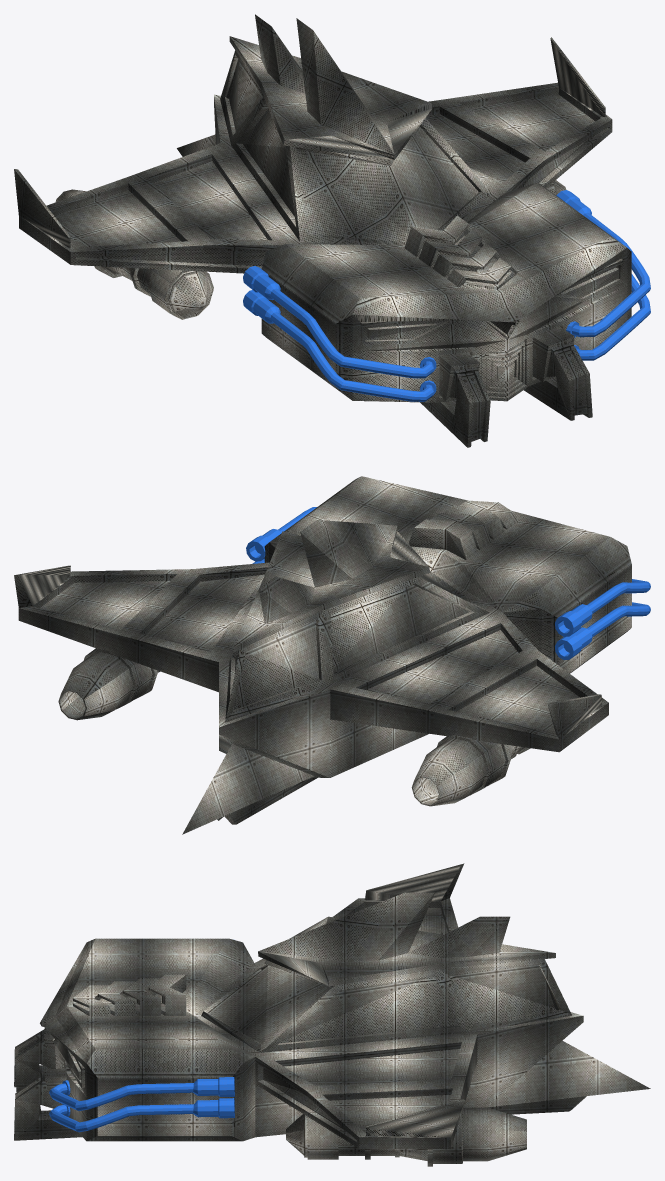
The model's file is Deus.fbx.
3 renders of one model, top to bottom at view 1: azimuth 30°, elevation 25°; view 2: azimuth 150°, elevation 25°; view 3: azimuth 270°, elevation 25°, orthographic. The views are drawn at different scales.
Parts seen in each view (by area): view 1: Cube, Cylinder_2, Tube_1; view 2: Cube, Tube_1, Cylinder_2; view 3: Cube, Tube_1, Cylinder_2.
Boxes of the visible parts, x1,y1,x2,y2 form: Cube: (14, 14, 631, 447); Cylinder_2: (243, 190, 650, 401); Tube_1: (55, 180, 566, 319); Cube: (14, 476, 631, 834); Tube_1: (58, 648, 530, 806); Cylinder_2: (246, 507, 650, 659); Cube: (14, 863, 650, 1149); Tube_1: (286, 1107, 526, 1166); Cylinder_2: (49, 1077, 234, 1132).
Bounding box in the file's own units: 1123 × 481 × 1259.
Materials: 2 (2 with a texture image).
